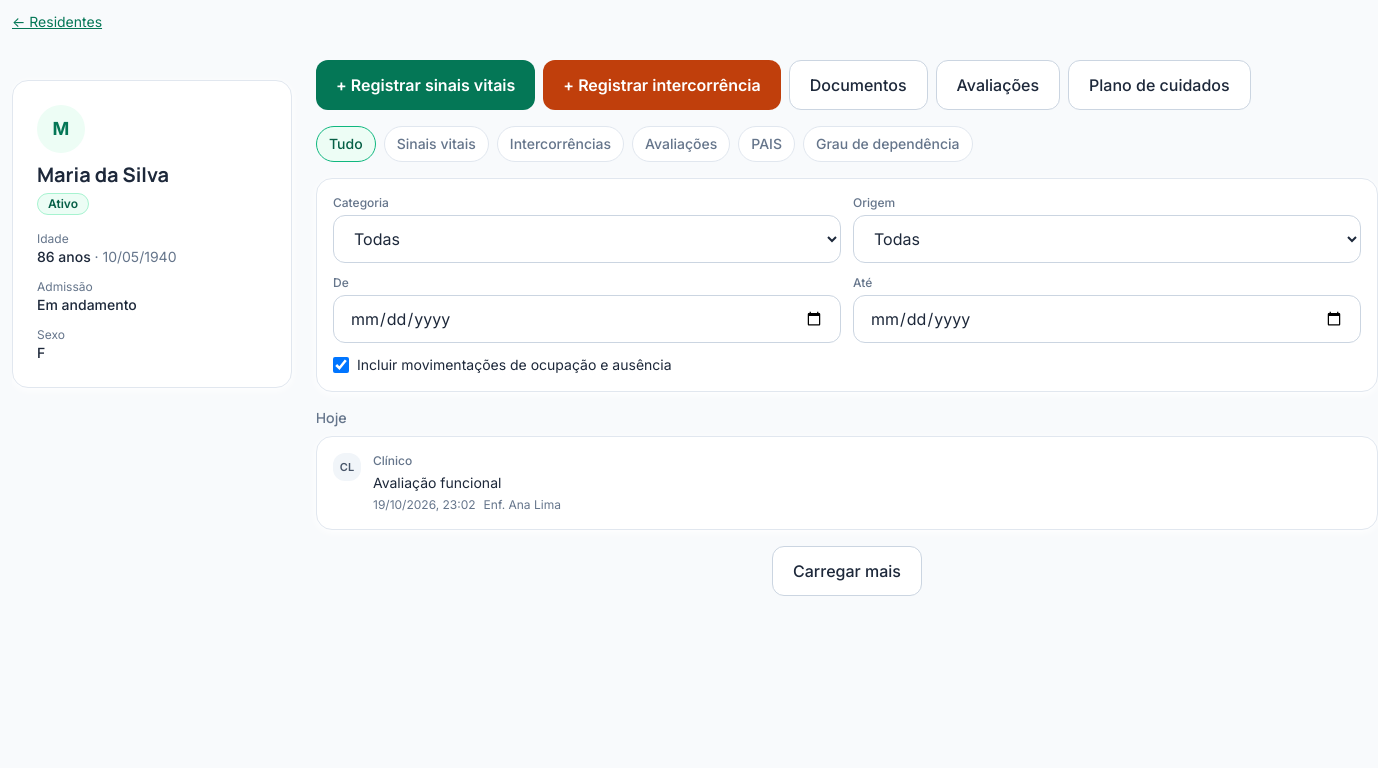
ResidenteProntuario › 20. trocar filtro reseta o cursor e substitui a lista
The image size is (1378, 768).
Expected: the text "Avaliação funcional" is shown, [373,474,501,491]
Click the button "Carregar mais".
click(847, 571)  # box [772,546,922,596]
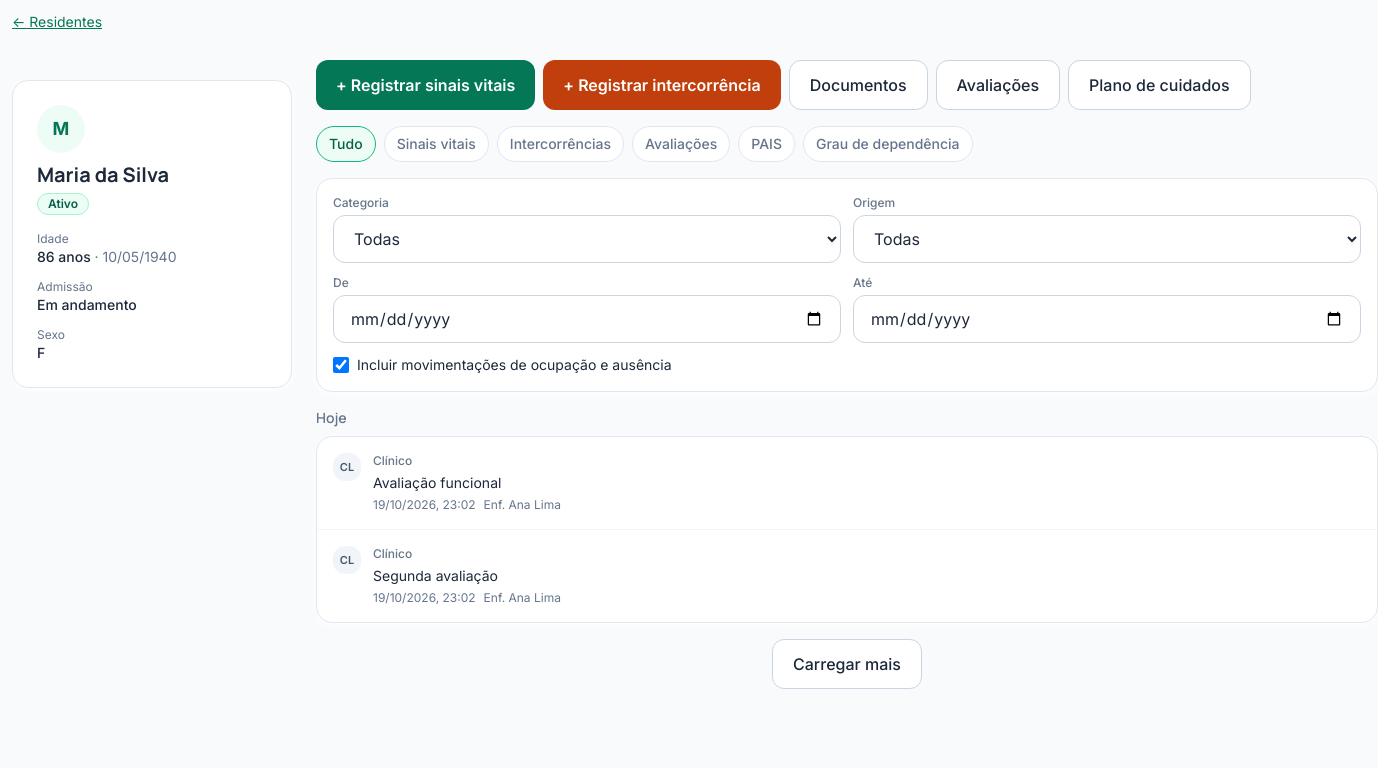
Expected: the text "Segunda avaliação" is shown, [373,567,498,584]
Select "Medicação" in the dropdown labelled "Categoria" at (587, 239), box [333,215,841,263]
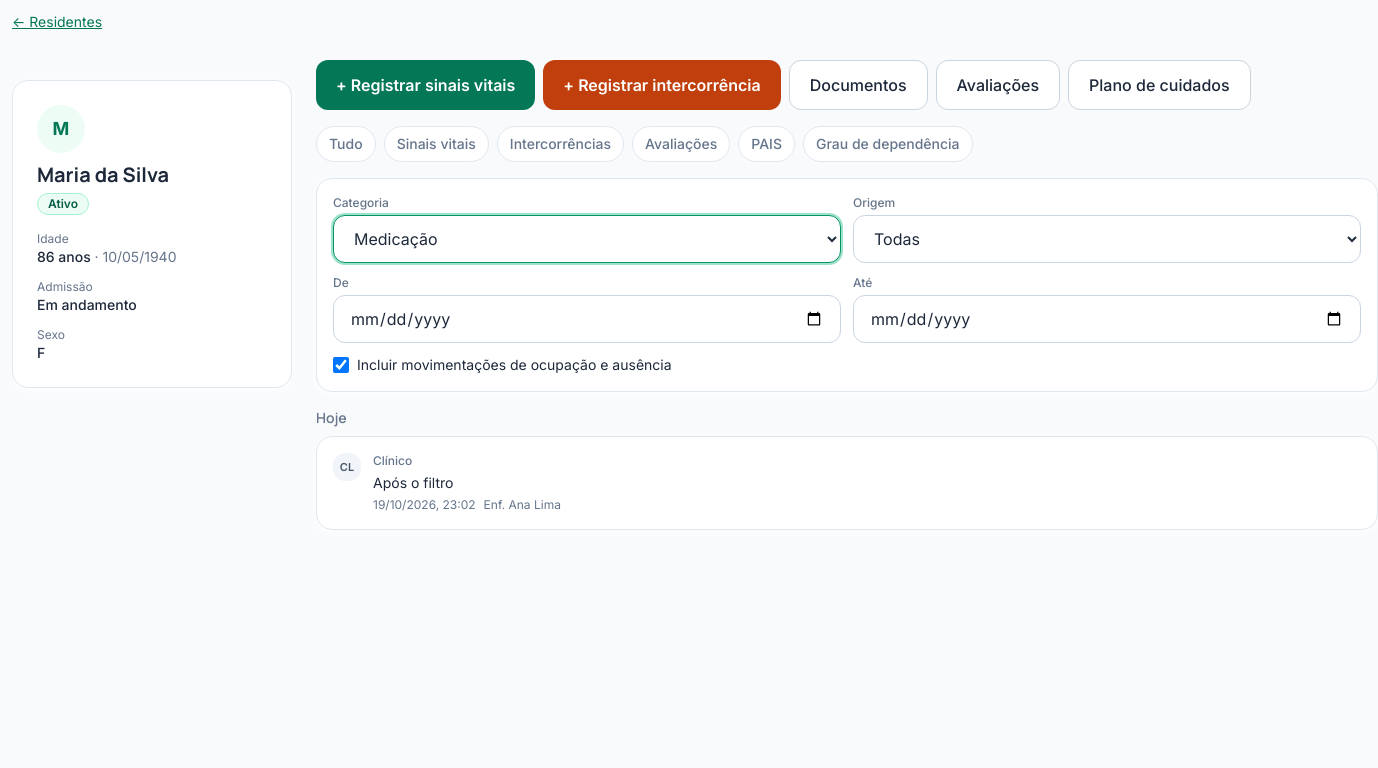
Expected: the text "Após o filtro" is shown, [373,474,454,491]
Expected: the text "Avaliação funcional" is gone
Expected: the text "Segunda avaliação" is gone
